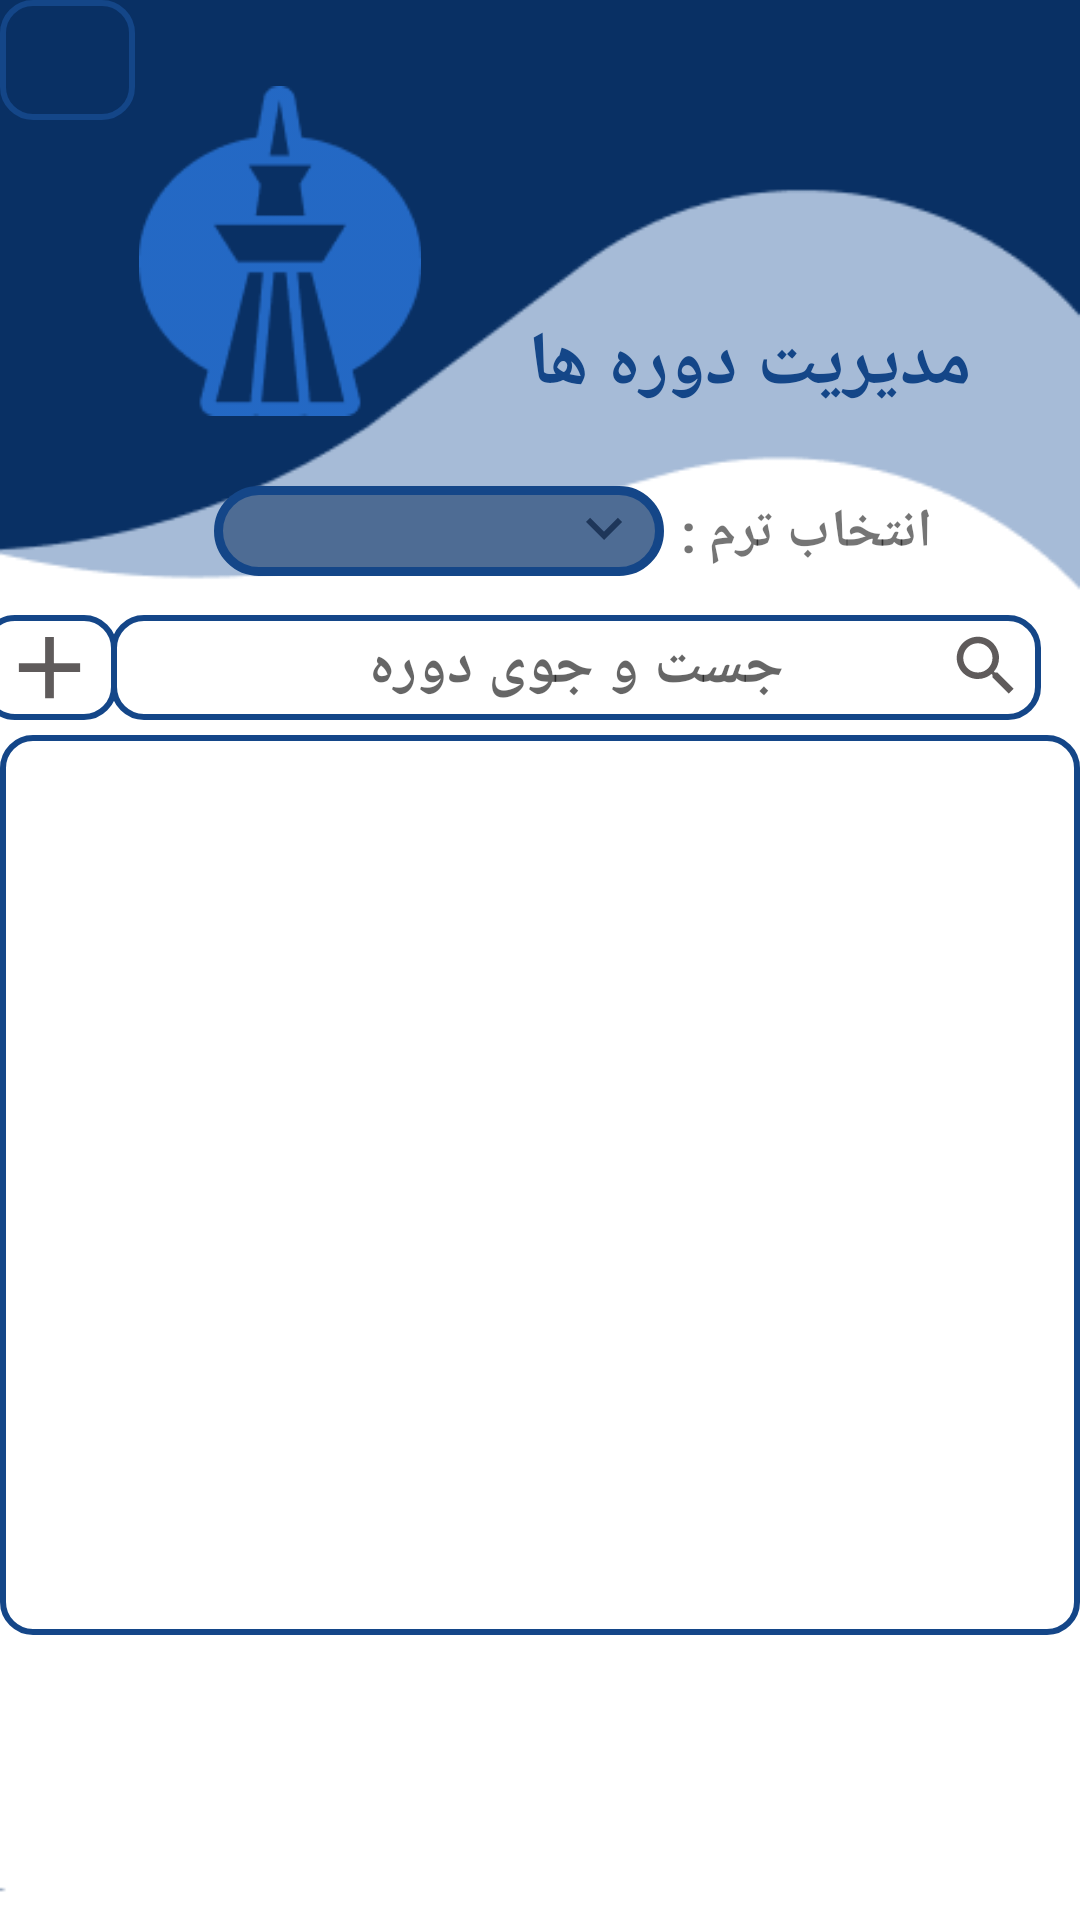

Icons on this 1080px x 1920px Android screen, each with the point to tap as (x,y):
search: (985,665)
